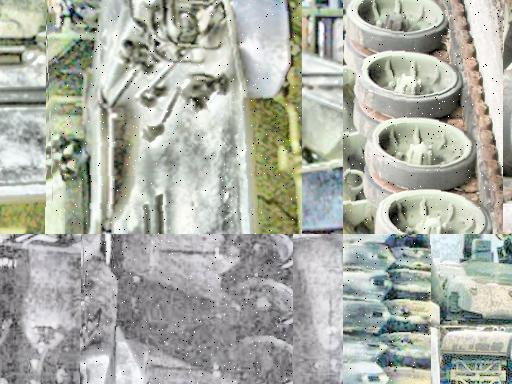tanks: (51, 1, 302, 235), (344, 1, 503, 235), (84, 235, 294, 384), (369, 235, 512, 384), (344, 235, 431, 384)
